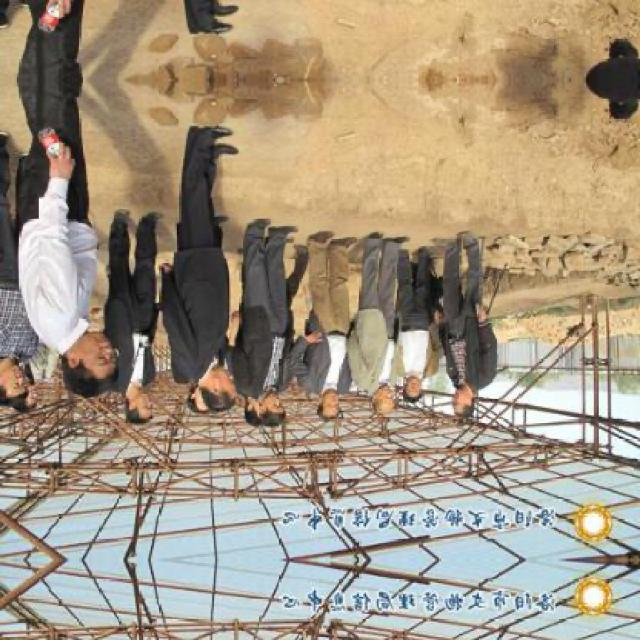sin casco: (50, 333, 116, 399), (208, 375, 258, 428), (364, 375, 407, 418), (123, 402, 172, 439), (247, 404, 303, 434), (454, 389, 493, 424), (316, 380, 344, 424), (400, 388, 434, 424)
